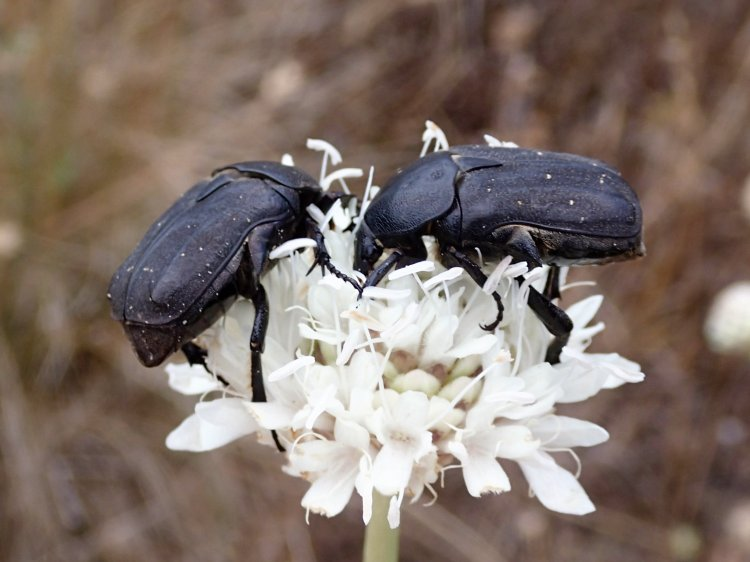Protaetia_morio_morio: (93, 151, 372, 451), (355, 135, 659, 366)
